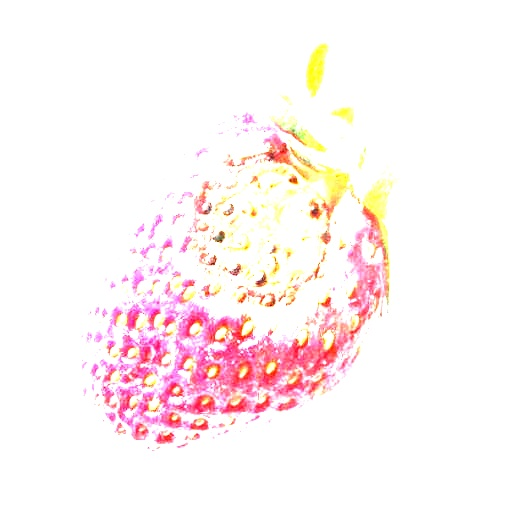Anthracnose Fruit Rot: (172, 129, 361, 334)
